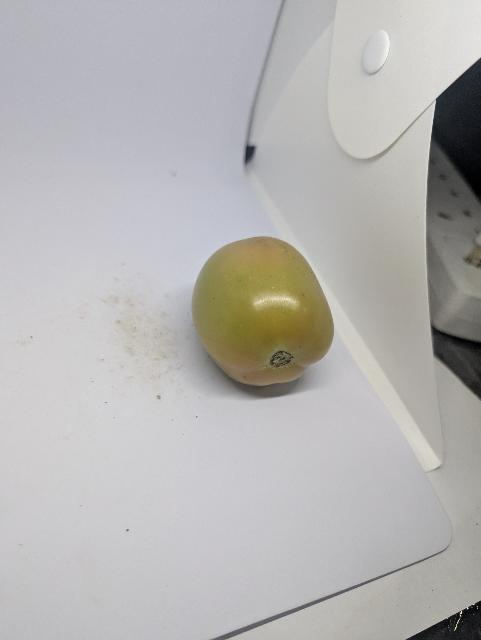breaker: (192, 237, 334, 386)
